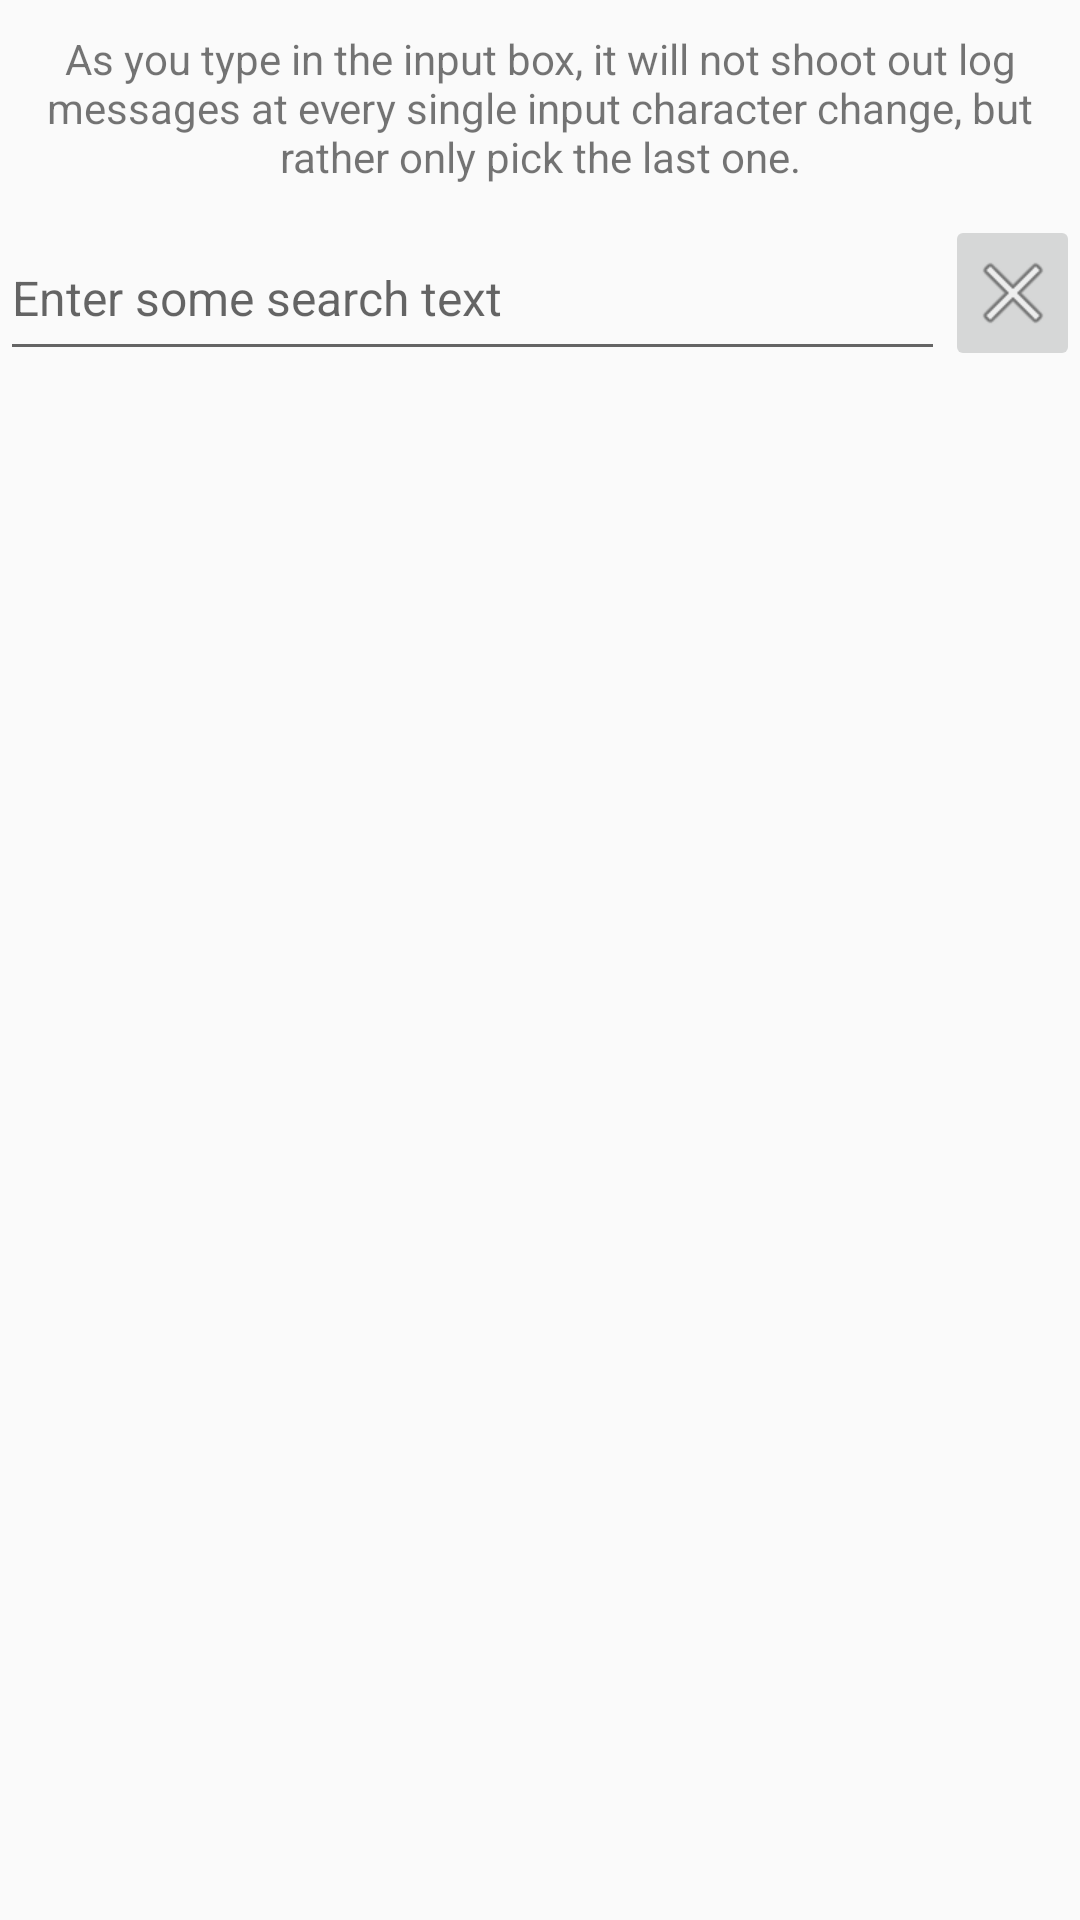

Point at icon controls on the screen. Image size 1080 × 1920, points as point (x, y).
close clear cancel: point (1012, 293)
